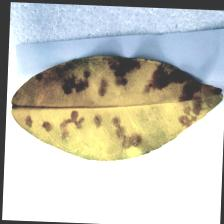black spot: (34, 60, 211, 144)
